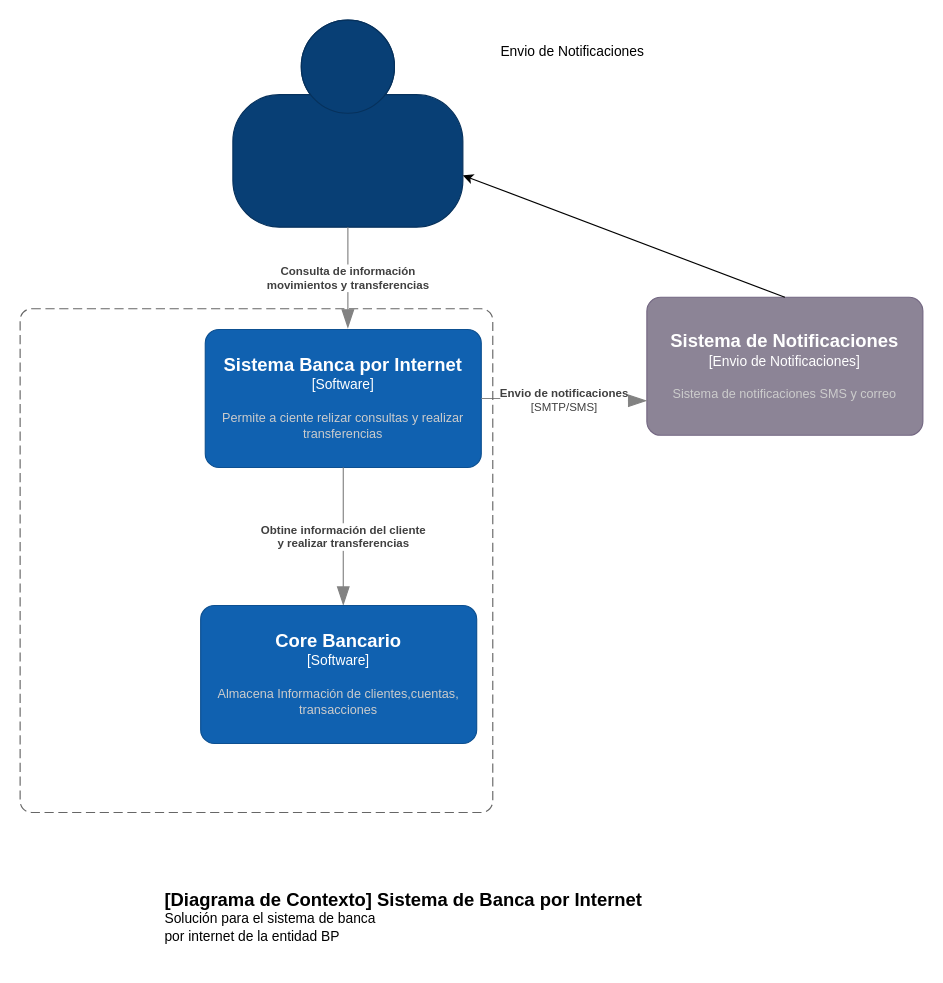
This 943x983 diagram has some shape labels left out. Each missing label, with the box of its shape:
Banca por Internet [Software System]: (19, 308, 493, 812)
Usuario [Cliente] Cliente con acceso a sistema: (232, 19, 463, 227)
